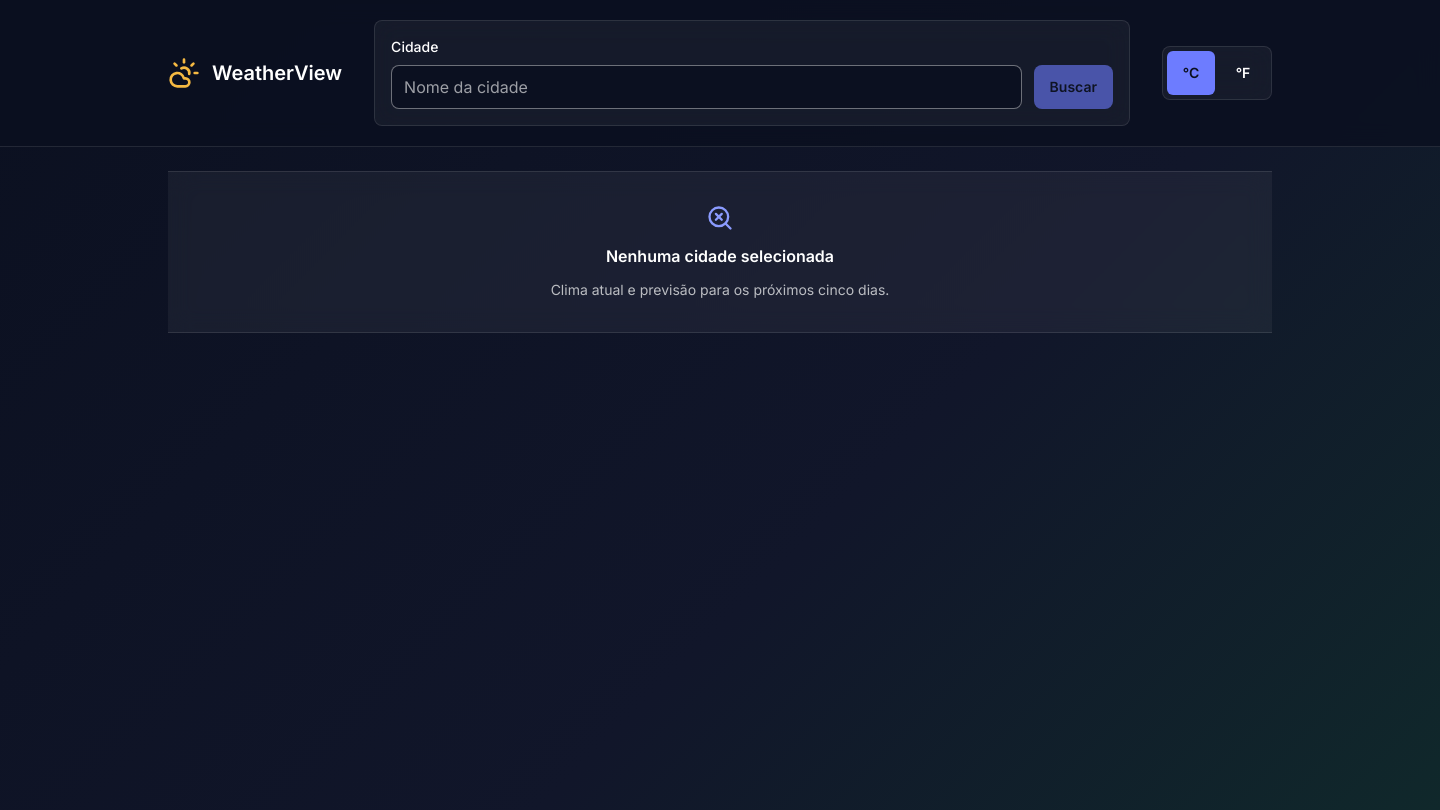
Test: App › preserva o foco no seletor de unidade enquanto a busca termina
Type "São Paulo" into the search field at (706, 87), box [391,65,1022,109]
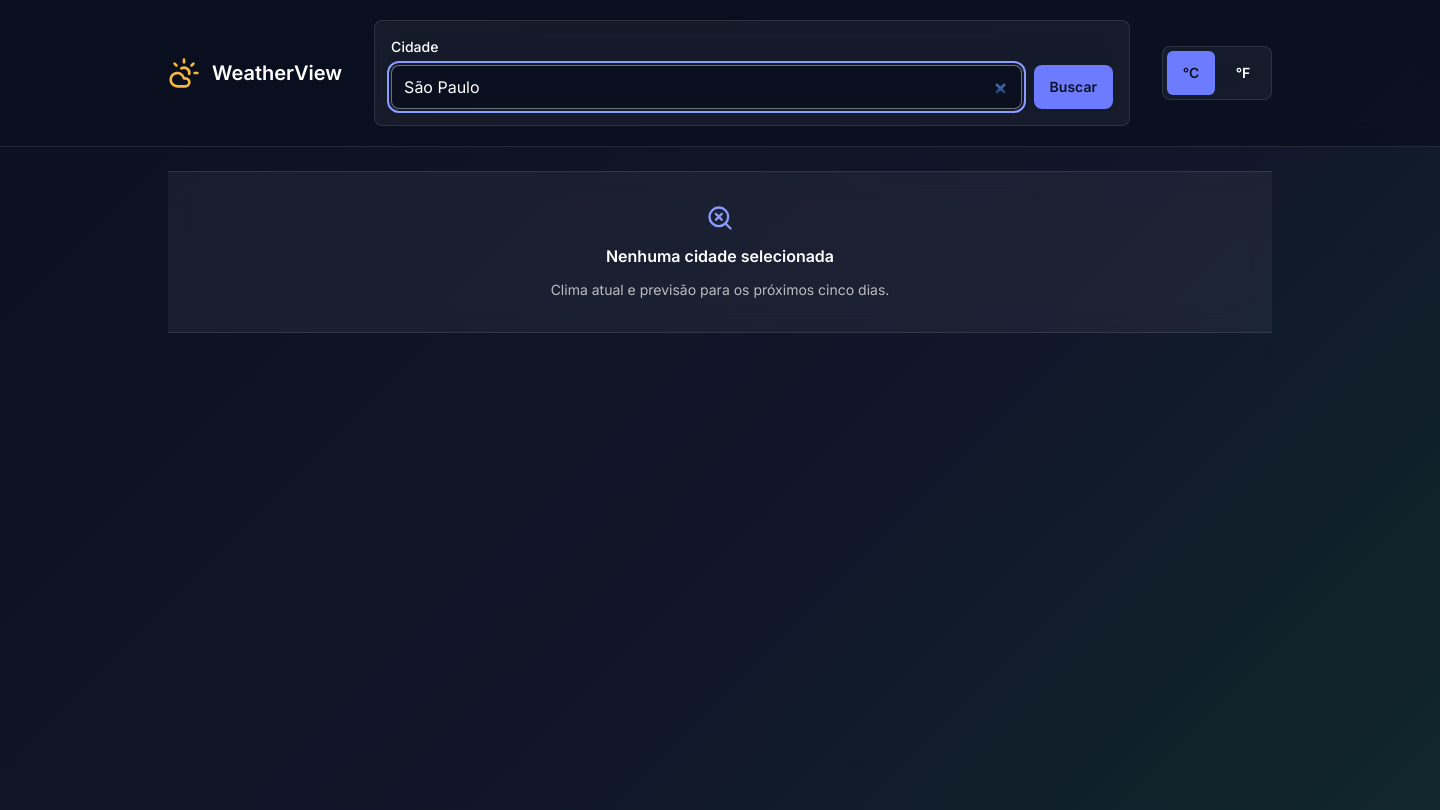
Click the button "Buscar" at (1073, 87), box [1034,65,1113,109]
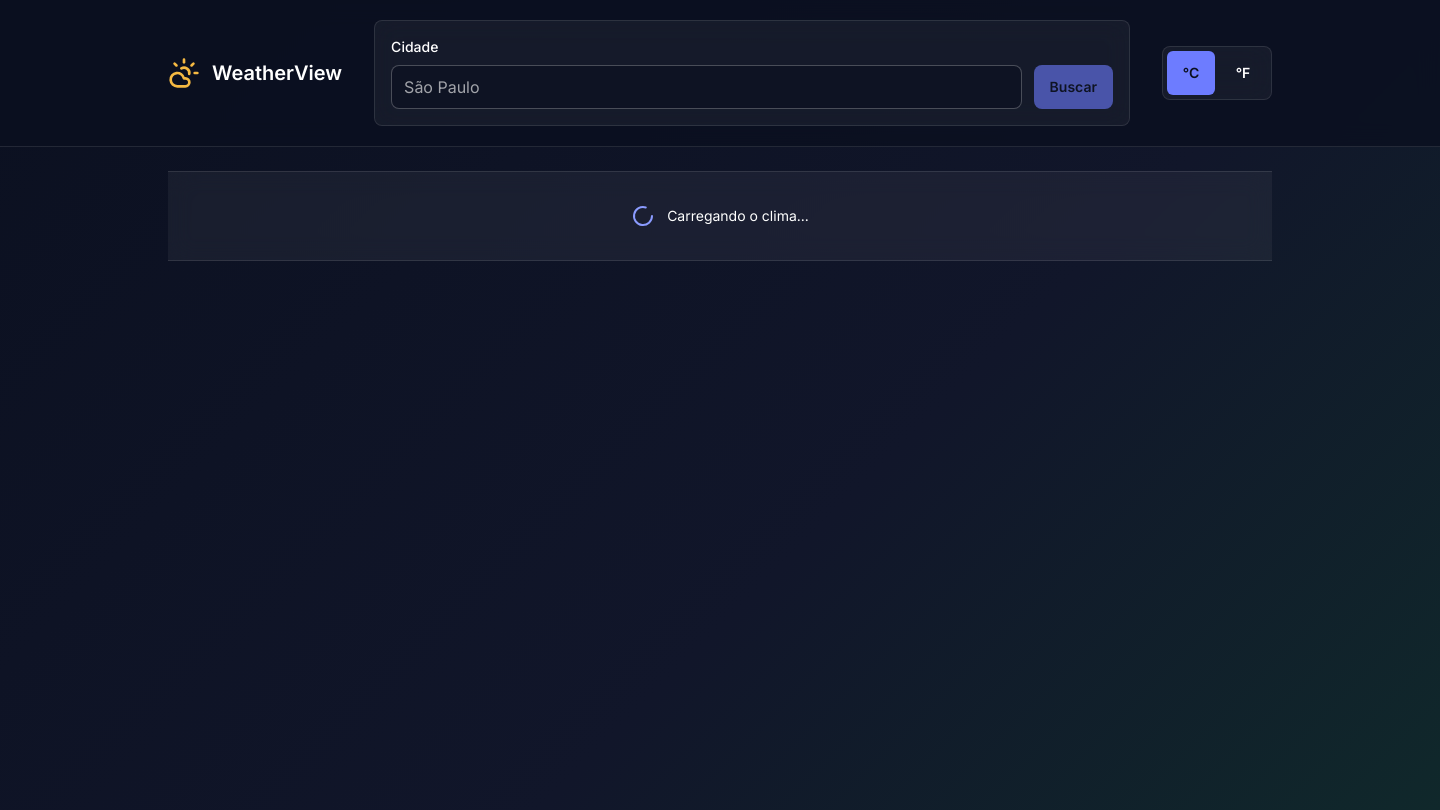
Click the button "°F" at (1243, 73), box [1219,51,1267,95]
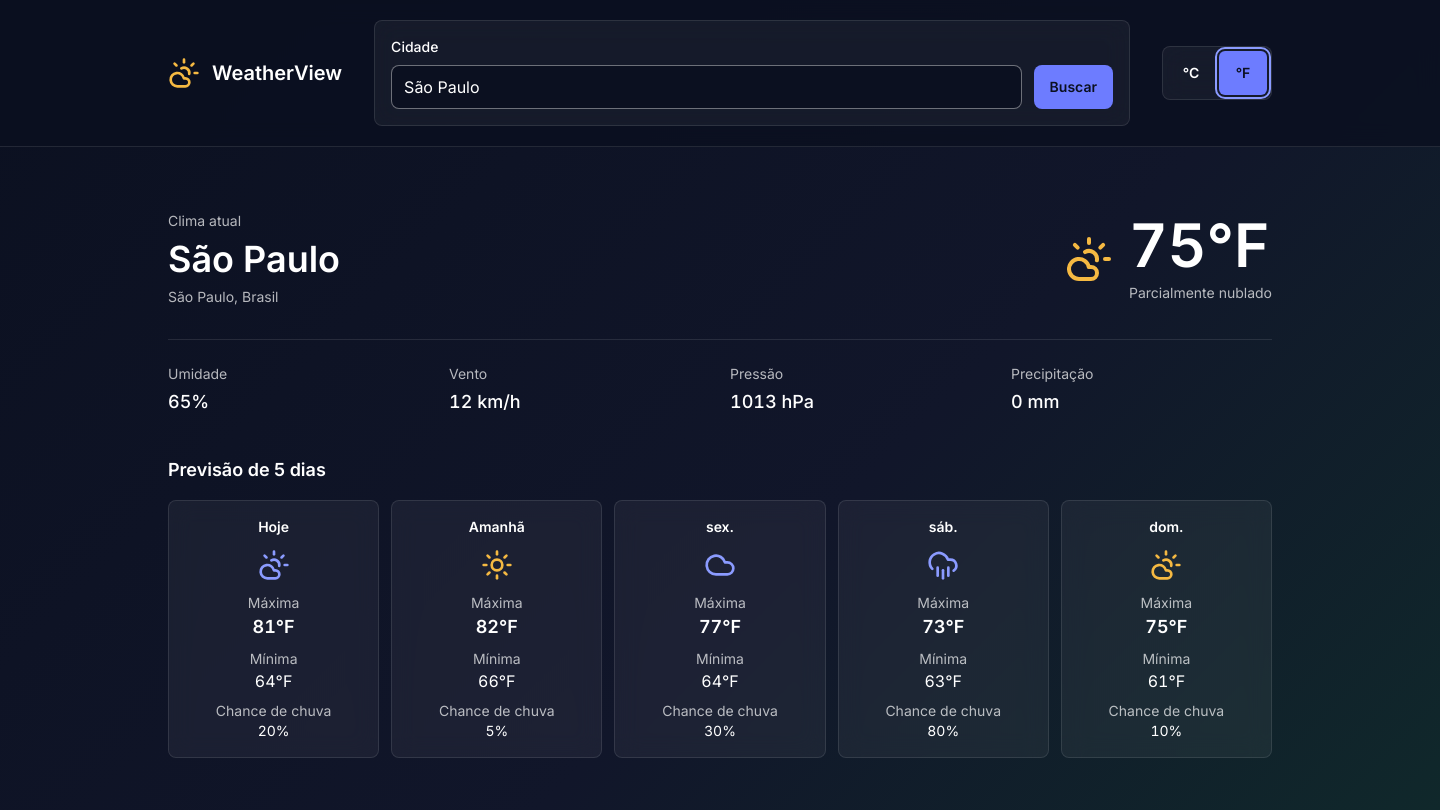
Check: the heading "São Paulo" is shown, box [168,239,340,279]
